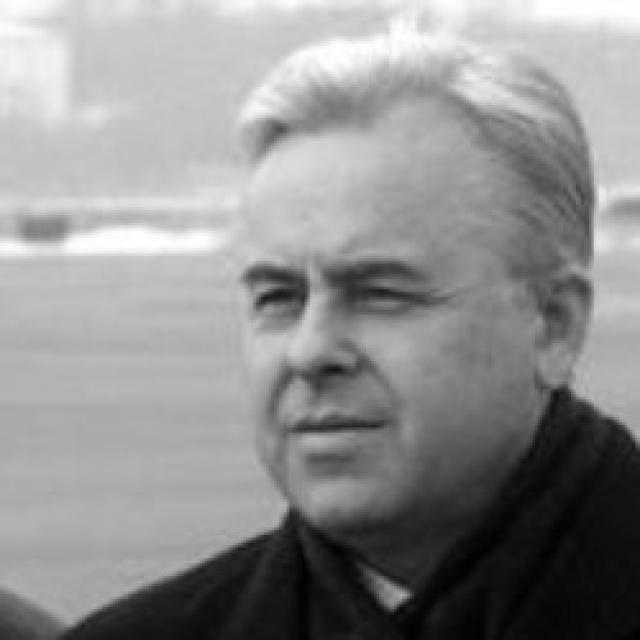real: (238, 44, 578, 526), (240, 270, 426, 318)
